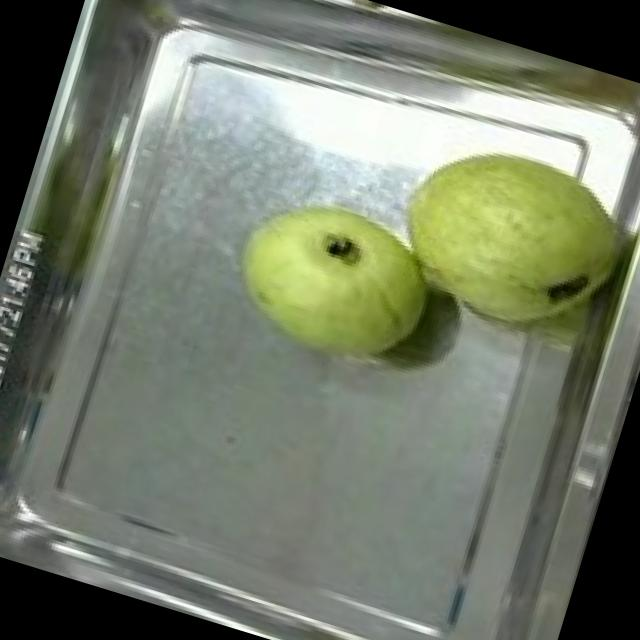Fruit: (370, 108, 640, 366), (203, 166, 458, 394)
